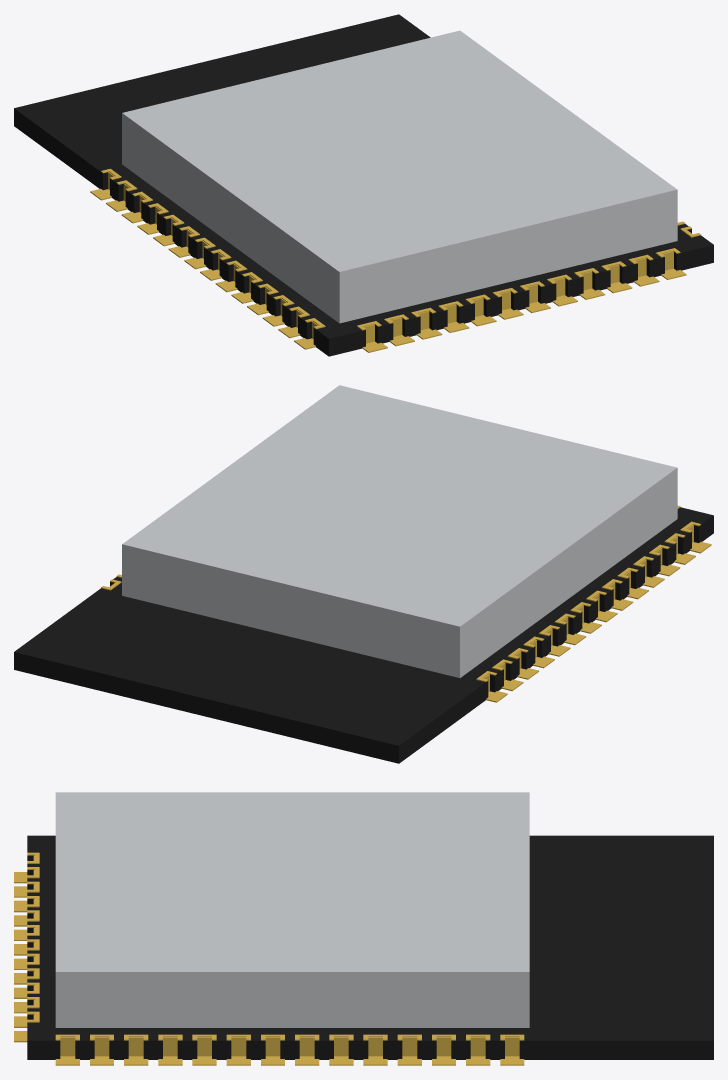
File: esp32s3-wroom-1-n16r8.glb
The picture shows the model from 3 angles, top to bottom: view 1: azimuth 30°, elevation 25°; view 2: azimuth 150°, elevation 25°; view 3: azimuth 270°, elevation 25°; orthographic projection. The views are drawn at different scales.
Bounding box in the file's own units: 0.019 × 0.0031 × 0.026.
